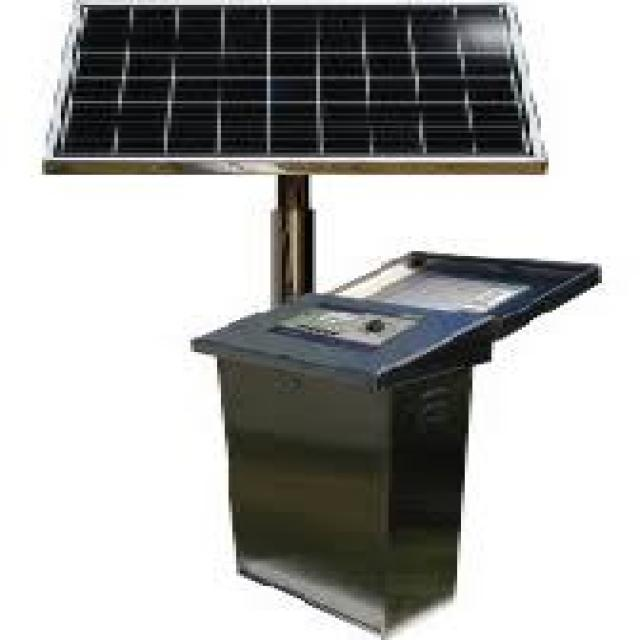no faulty: (59, 10, 534, 161)
